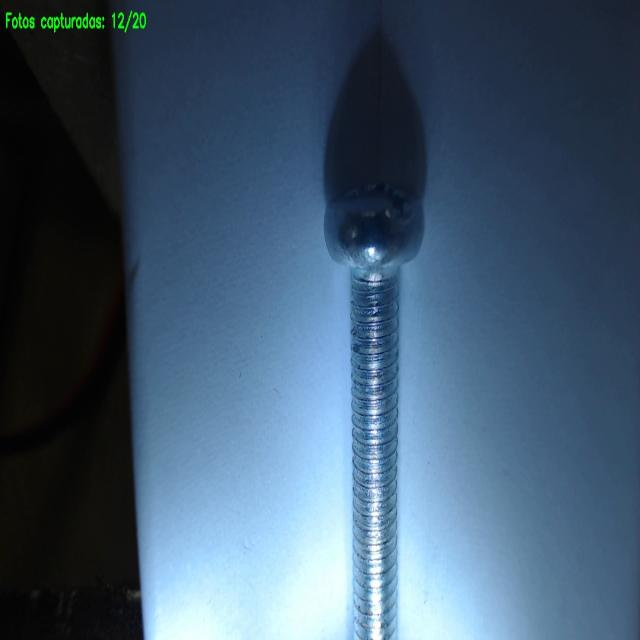vastago: (351, 275, 398, 639)
